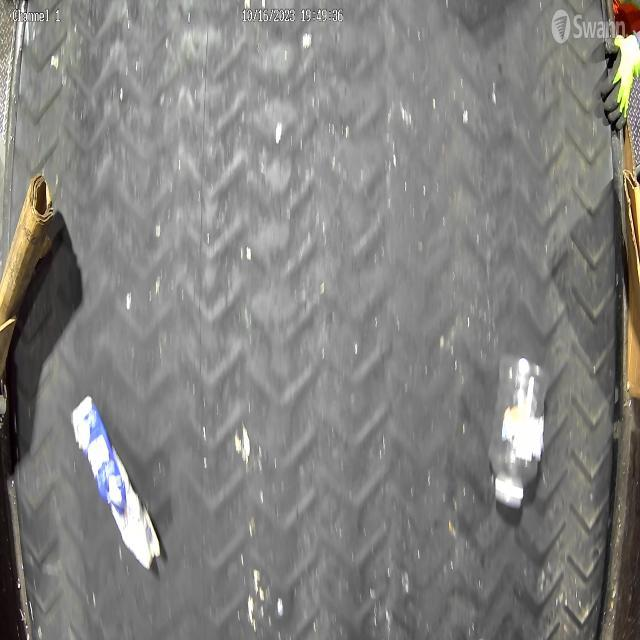plastic_bottle: (487, 353, 552, 509)
